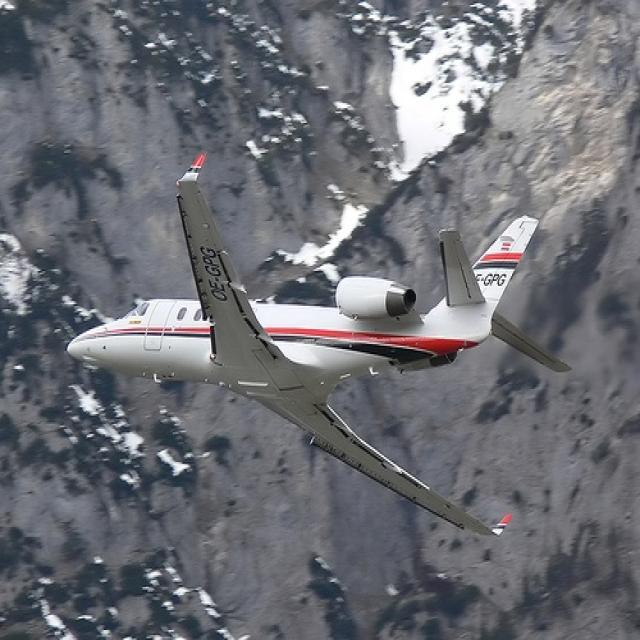aeroplane: (68, 154, 573, 534)
